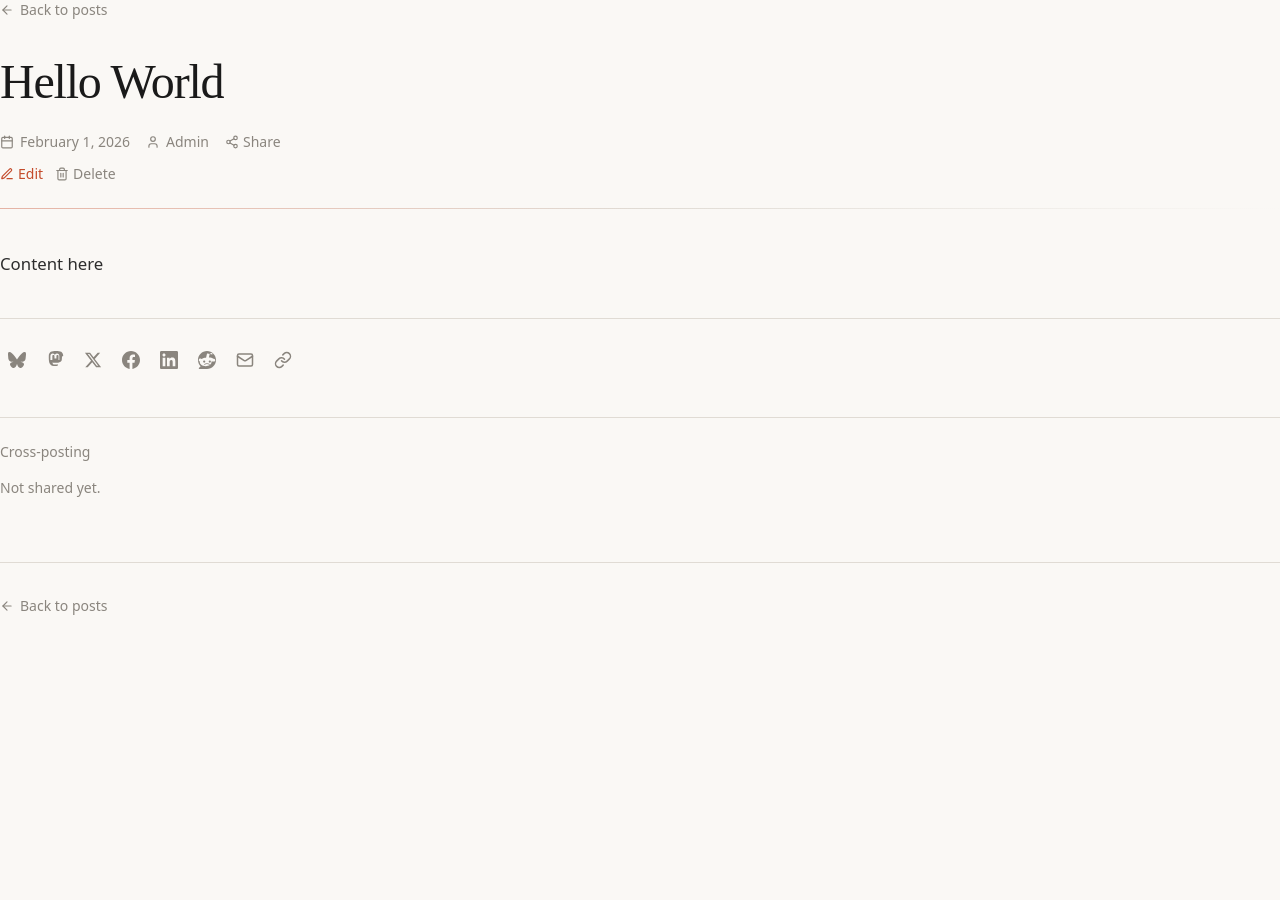
Test: PostPage › cancel closes confirmation dialog
The width and height of the screenshot is (1280, 900).
Click the button "Delete" at point(85, 174), box [55,164,116,184]
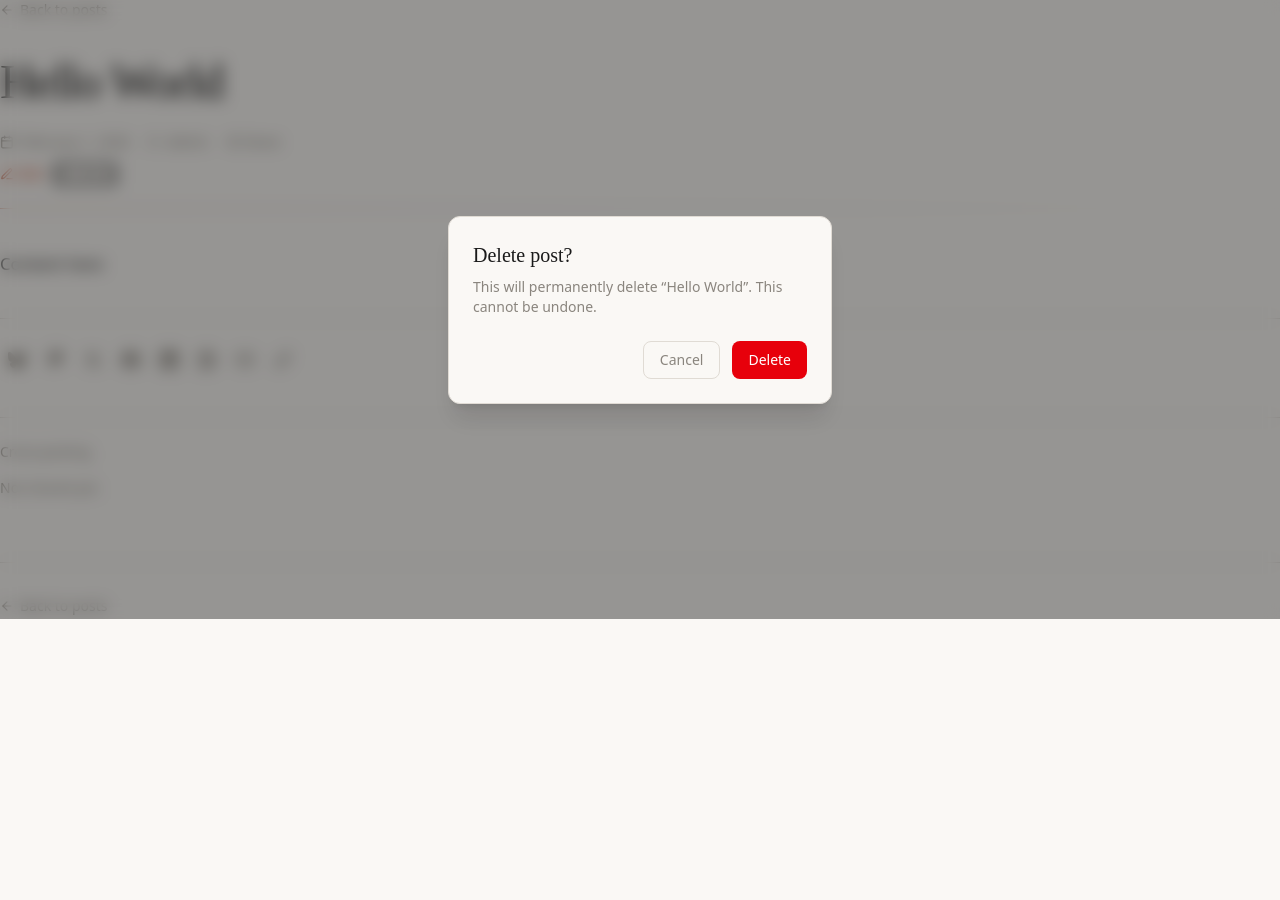
Expected: the heading "Delete post?" is shown, [473,244,572,266]
Click the button "Cancel" at point(682, 360), box [643,341,720,379]
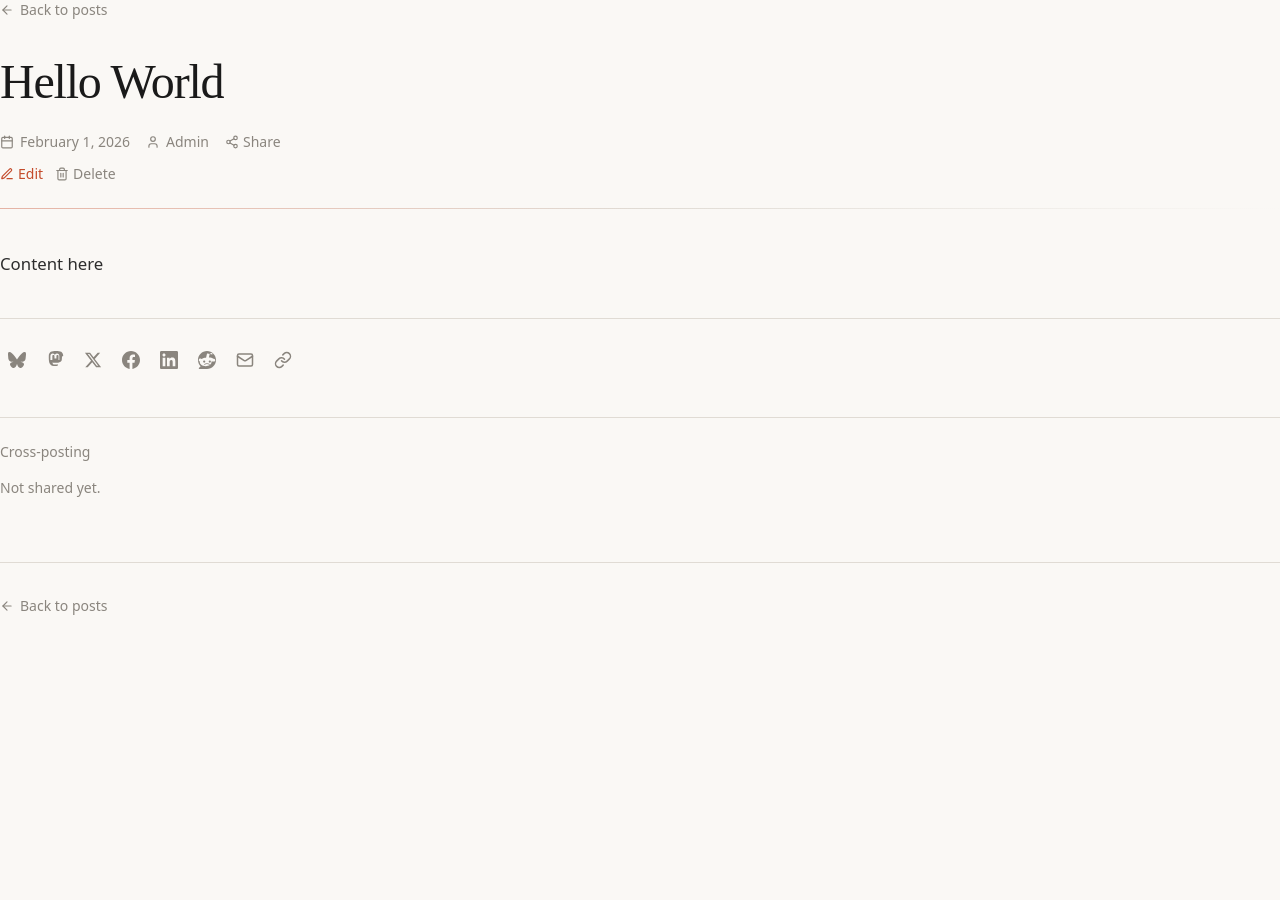
Expected: the heading "Delete post?" is gone
